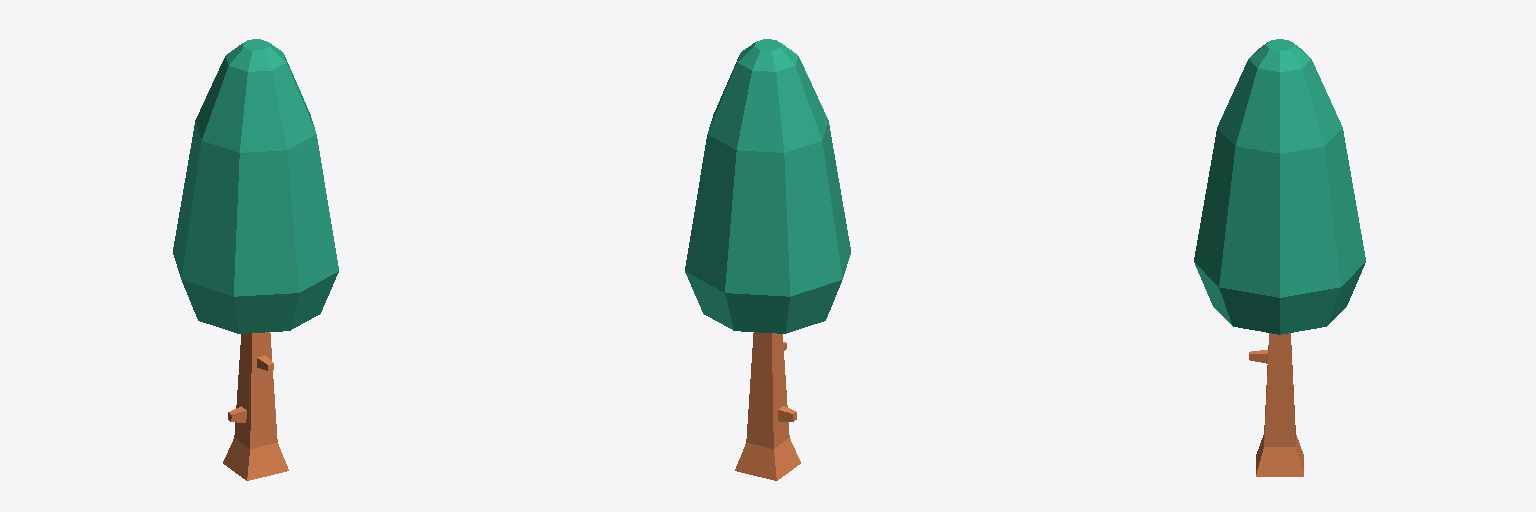
3 views of the same model, side by side, from view 1: azimuth 30°, elevation 25°; view 2: azimuth 150°, elevation 25°; view 3: azimuth 270°, elevation 25° (orthographic).
Parts seen in each view (by area): view 1: treeHighRound; view 2: treeHighRound; view 3: treeHighRound.
Part boxes in pixels (left/top/right/bottom): treeHighRound: left=173, top=39, right=338, bottom=480; treeHighRound: left=685, top=39, right=850, bottom=480; treeHighRound: left=1194, top=39, right=1365, bottom=476.
Size of the model in its own units: 0.3703 by 1 by 0.3703.